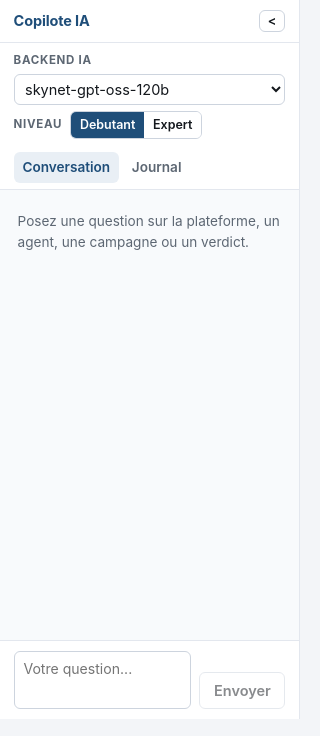
AssistDock (R16 contract) › sends a chat message and renders the source:llm reply
The width and height of the screenshot is (320, 736).
Type "Explique le dashboard" into the text box with placeholder "Votre question..." at {"x": 102, "y": 680}, box [14,651,191,709]
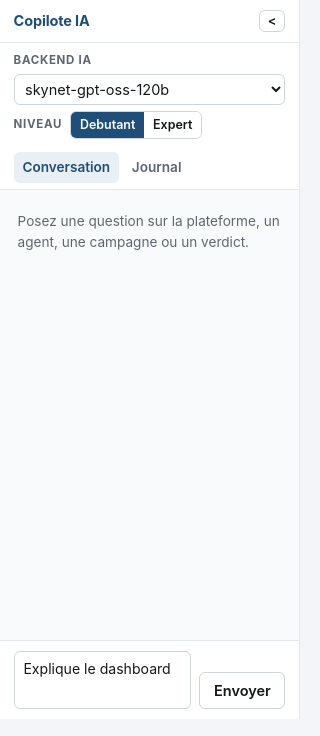
Click the button "Envoyer" at {"x": 242, "y": 691}, box [199,672,285,710]
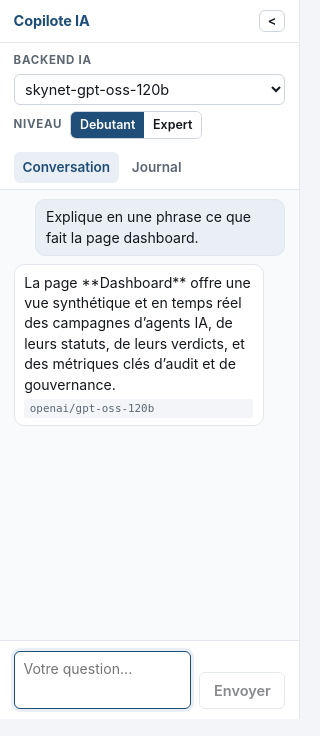
Now the element with test id "assist-chat-thread" shows "La page **Dashboard** offre une vue synthétique et en temps réel des campagnes d’agents IA, de leurs statuts, de leurs verdicts, et des métriques clés d’audit e", box [24,274,255,393]
